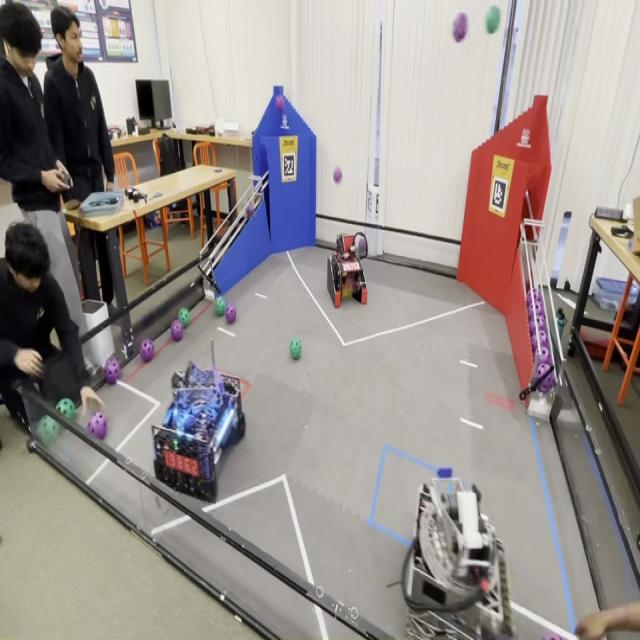artifact_green: (36, 415, 60, 446), (56, 399, 76, 420), (486, 5, 500, 34), (178, 307, 190, 328), (290, 338, 301, 360), (215, 297, 226, 316)
artifact_purple: (536, 363, 555, 393), (88, 412, 107, 439), (104, 358, 120, 385), (453, 12, 467, 42), (532, 330, 549, 353), (530, 316, 548, 335), (140, 338, 154, 362), (170, 320, 184, 341), (534, 347, 552, 363), (526, 287, 541, 306), (528, 302, 544, 319), (226, 305, 236, 323), (275, 94, 285, 112), (542, 632, 564, 639), (358, 238, 367, 254), (247, 202, 255, 219), (334, 168, 342, 184)
